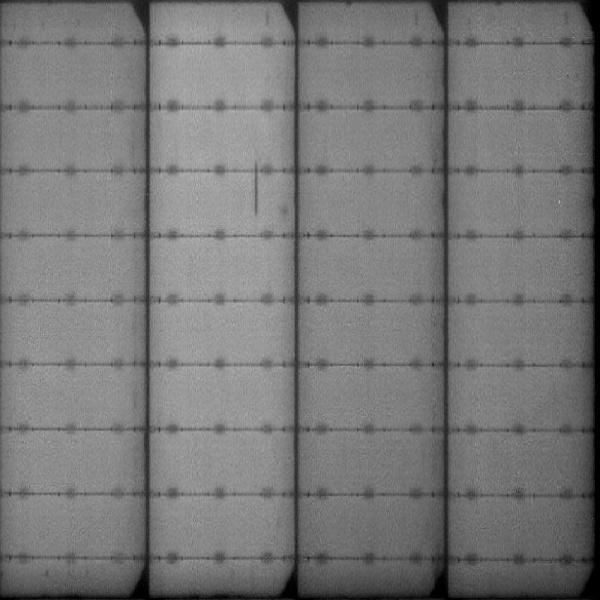scratch: (249, 161, 263, 215)
